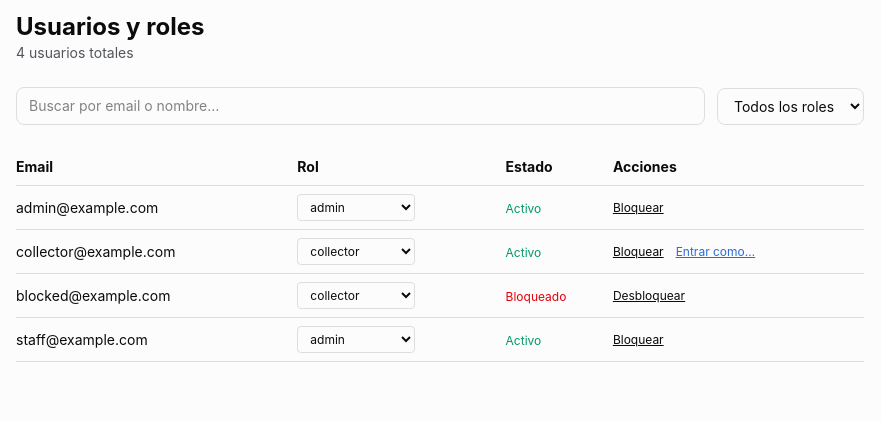
Scenario: AdminUsersPage — login_as button › renders the error message if loginAsUser rejects
The width and height of the screenshot is (881, 421).
Click the button with test id "admin-user-login-as-2".
click(715, 252)  # box [676,244,755,260]
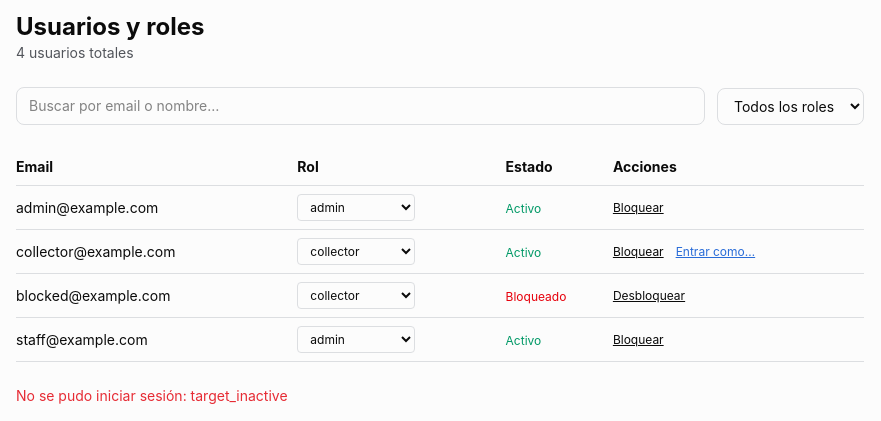
Result: the text with test id "admin-users-login-error" shows "target_inactive" at [191,387,288,404]
